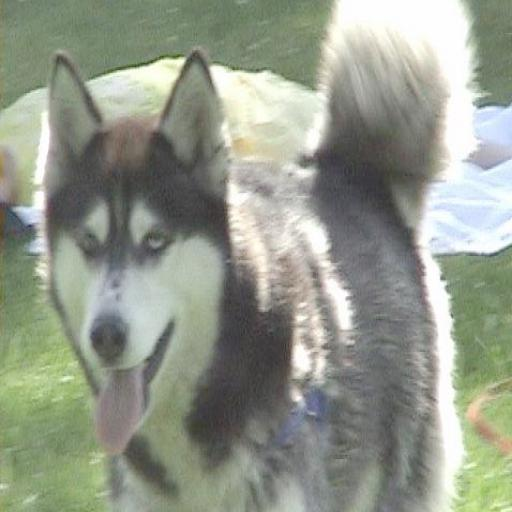dog_face: (42, 61, 217, 425)
